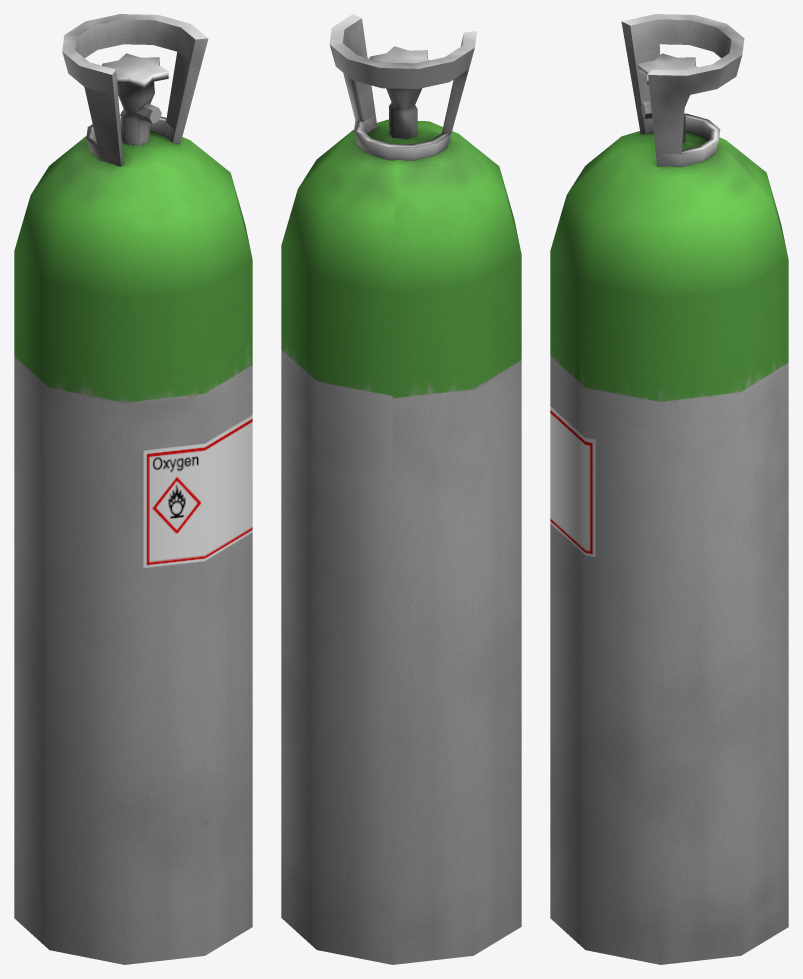
File: oxygen_false.fbx
The picture shows the model from 3 angles, left to right: view 1: azimuth 30°, elevation 25°; view 2: azimuth 150°, elevation 25°; view 3: azimuth 270°, elevation 25°; orthographic projection.
Visible parts, largest first — view 1: oxygen_false; view 2: oxygen_false; view 3: oxygen_false.
Part boxes in pixels (x1,y1,x2,y2): oxygen_false: [14, 14, 252, 964]; oxygen_false: [281, 14, 521, 964]; oxygen_false: [550, 14, 788, 964].
Size of the model in its own units: 0.1676 by 0.6744 by 0.1676.
1 material, 1 textured.
